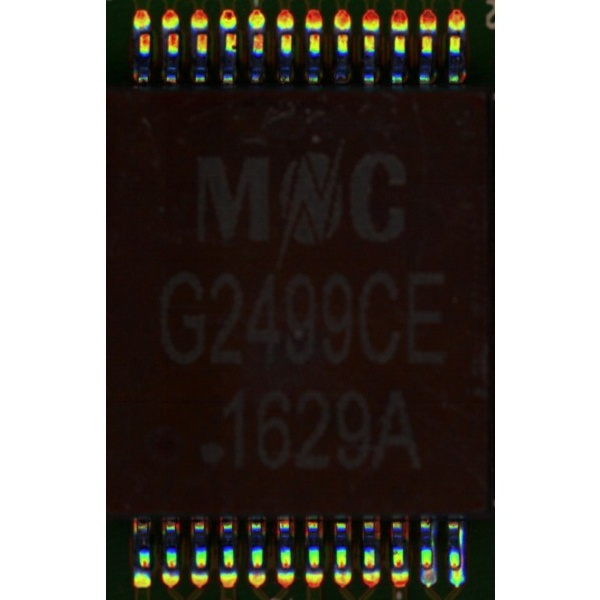Bad_podu: (450, 564, 458, 578), (421, 563, 431, 574)
Bad_qiaojiao: (458, 526, 463, 568), (431, 519, 435, 568)
